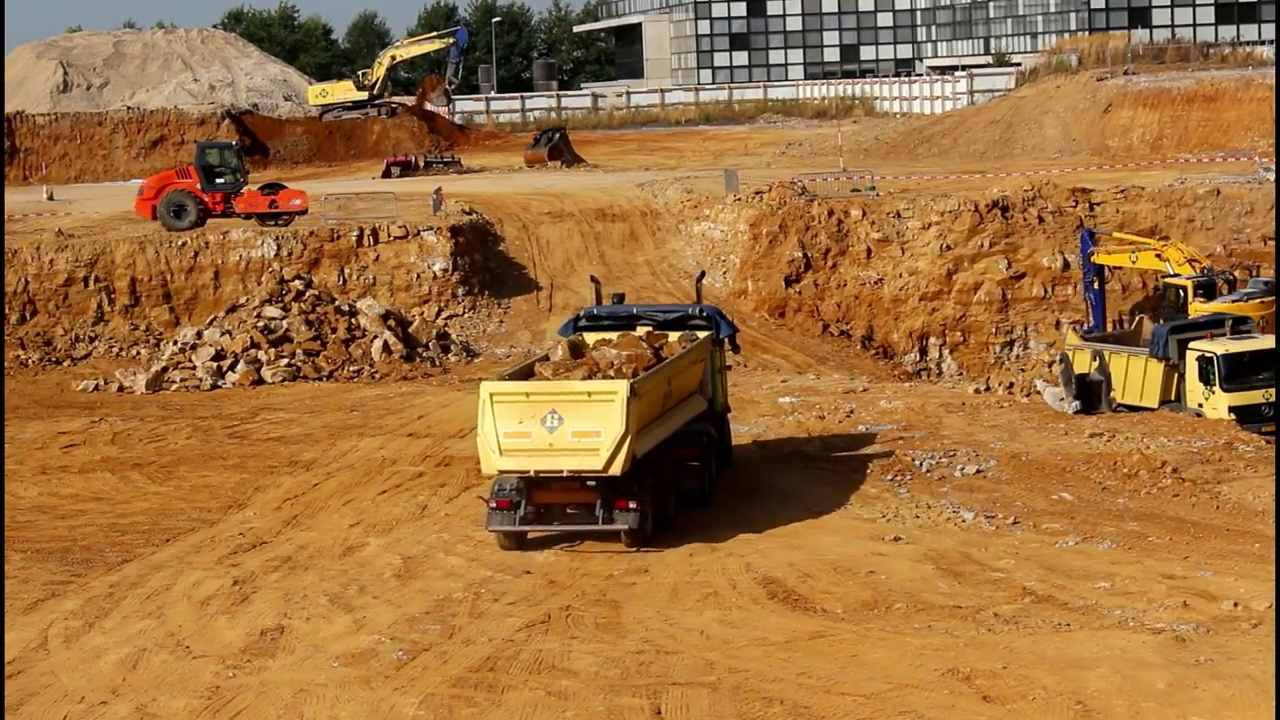compactor: (131, 140, 310, 231)
excavator: (1062, 224, 1280, 398), (307, 21, 474, 131)
truck: (477, 268, 750, 557), (1062, 313, 1280, 457)
